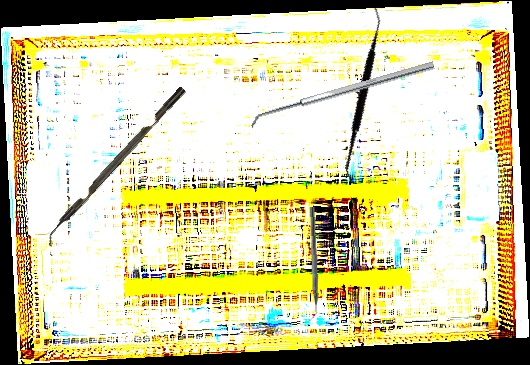Chopper: (40, 86, 194, 249), (301, 206, 322, 323)
Spatula Surgical: (295, 7, 433, 184), (248, 61, 437, 129)
